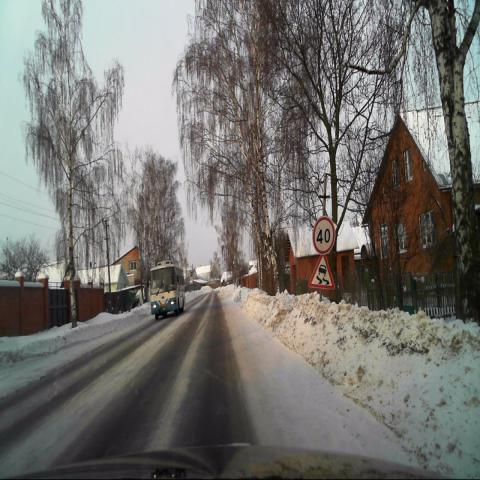1_15: (308, 254, 335, 291)
